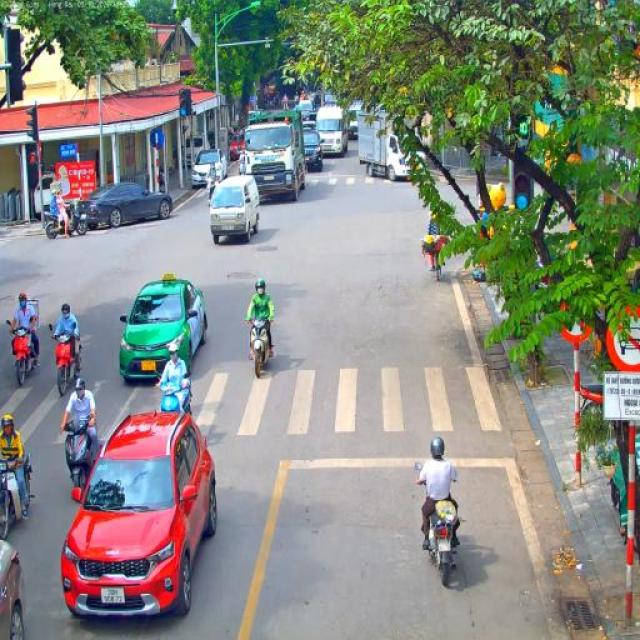car: (60, 409, 218, 621), (118, 274, 208, 384), (75, 181, 174, 230), (0, 536, 26, 640), (192, 148, 228, 188), (300, 128, 324, 172), (294, 100, 314, 124), (304, 116, 316, 130)
motorcycle: (413, 462, 462, 588), (0, 451, 35, 541), (59, 414, 97, 490), (49, 323, 82, 397), (7, 321, 38, 387), (244, 317, 274, 378), (42, 202, 88, 239), (156, 378, 192, 418), (206, 178, 219, 203), (237, 159, 246, 177)
truck: (243, 107, 307, 202), (208, 174, 261, 245), (358, 116, 413, 182), (316, 106, 348, 155), (347, 109, 358, 142)
